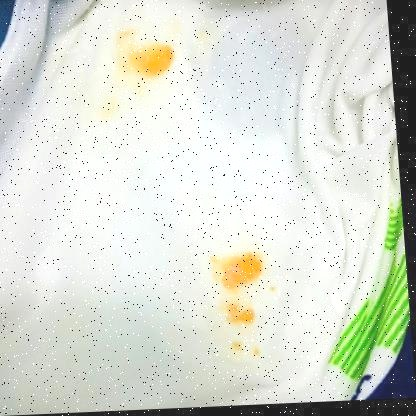kimchi: (112, 27, 174, 75), (209, 246, 266, 293), (100, 85, 141, 121), (217, 299, 262, 329), (225, 339, 266, 359), (269, 282, 280, 295)
